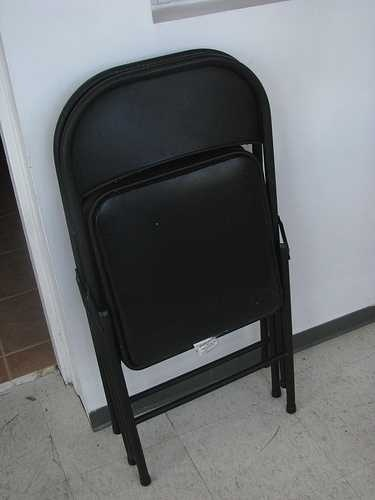obstacle: (54, 49, 295, 484)
